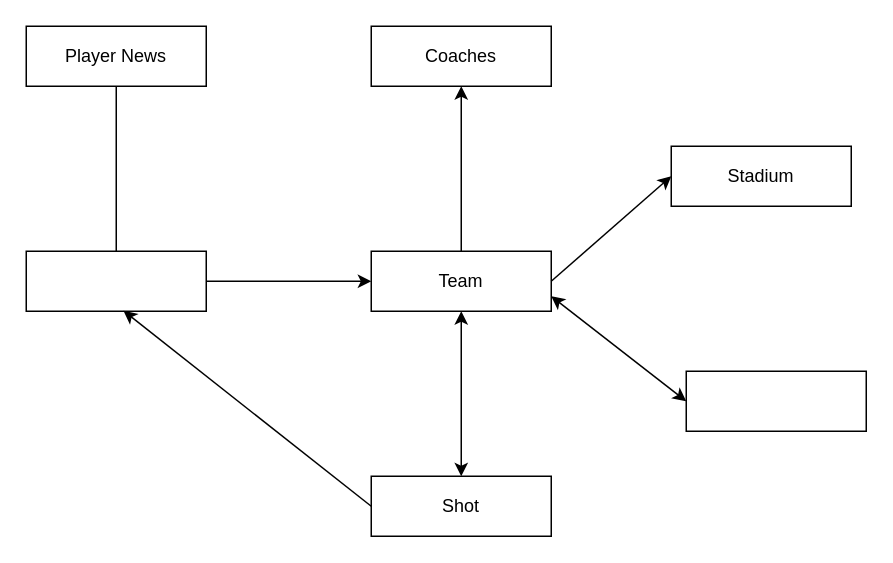
Image size: 893x563. Some labels were removed from this diagram. Here are the shapes that lost their labels. From the top down, the centre of each, then its label:
(x=115, y=280): Player
(x=775, y=400): Game
